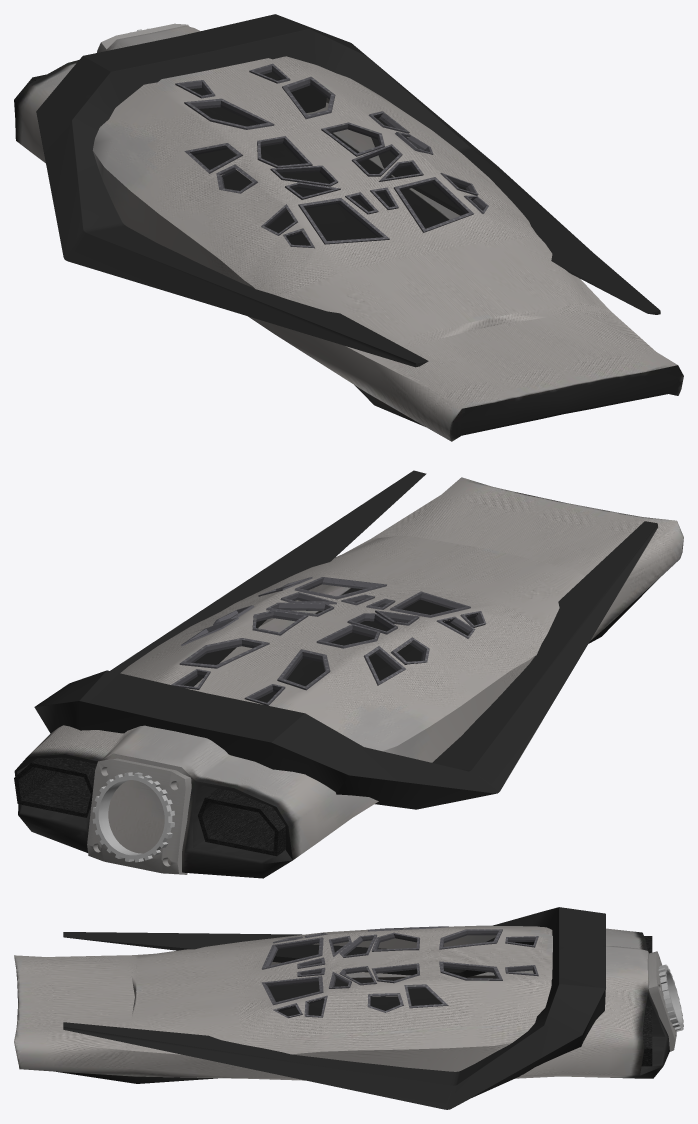
Rendered from interstellar_ranger.glb.
3 renders of one model, top to bottom at view 1: azimuth 30°, elevation 25°; view 2: azimuth 150°, elevation 25°; view 3: azimuth 270°, elevation 25°, orthographic. The views are drawn at different scales.
Parts seen in each view (by area): view 1: Object_3, Object_2, Object_5, Object_8; view 2: Object_3, Object_2, Object_5, Object_4, Object_8, Object_7, Object_6; view 3: Object_3, Object_2, Object_5, Object_8, Object_7, Object_6, Object_4.
Part boxes in pixels (x1=…): Object_3: x1=14, y1=25, x2=683, y2=441; Object_2: x1=36, y1=14, x2=660, y2=367; Object_5: x1=175, y1=63, x2=488, y2=248; Object_8: x1=187, y1=70, x2=482, y2=245; Object_3: x1=14, y1=477, x2=683, y2=878; Object_2: x1=34, y1=470, x2=657, y2=809; Object_5: x1=171, y1=577, x2=486, y2=705; Object_4: x1=14, y1=757, x2=285, y2=856; Object_8: x1=181, y1=582, x2=479, y2=702; Object_7: x1=87, y1=758, x2=191, y2=874; Object_6: x1=92, y1=772, x2=174, y2=862; Object_3: x1=14, y1=925, x2=669, y2=1083; Object_2: x1=63, y1=907, x2=605, y2=1109; Object_5: x1=261, y1=926, x2=538, y2=1017; Object_8: x1=268, y1=933, x2=534, y2=1015; Object_7: x1=648, y1=951, x2=676, y2=1051; Object_6: x1=658, y1=964, x2=683, y2=1031; Object_4: x1=641, y1=936, x2=652, y2=1066.
Size of the model in its own units: 8.29 by 2.49 by 14.77.
7 materials, 6 textured.
